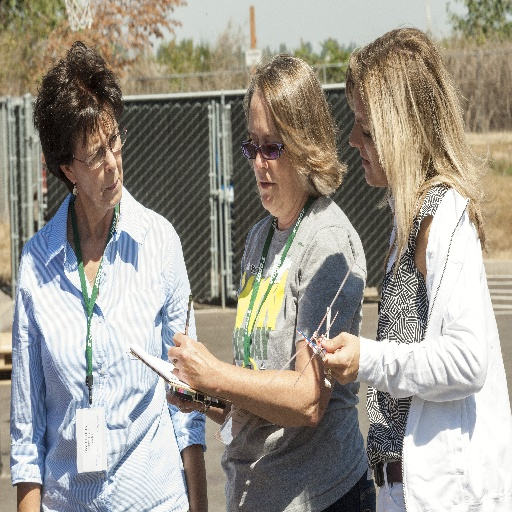hand: (166, 329, 216, 393), (318, 331, 365, 389), (165, 366, 203, 415)
